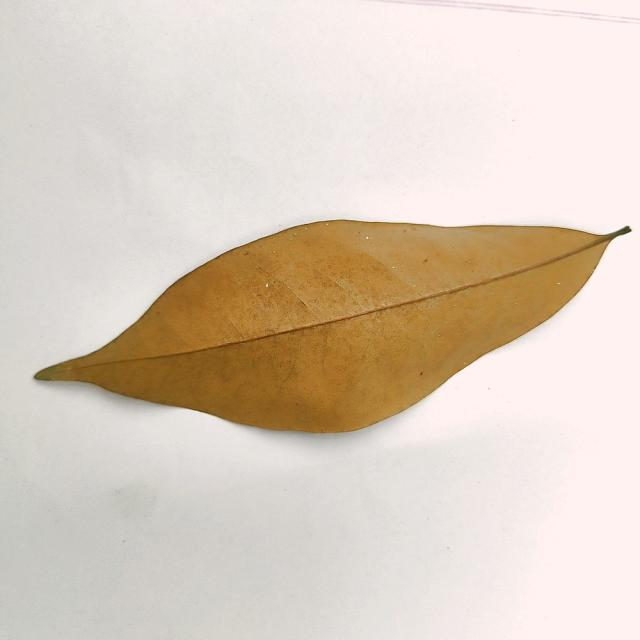Dry_Leaf-Lychee: (33, 221, 630, 437)
